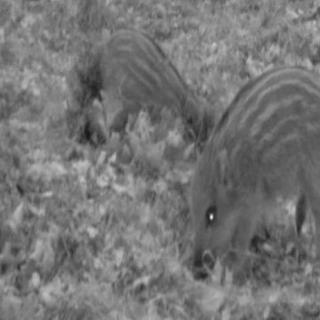Pig: (183, 62, 320, 281), (68, 15, 212, 157)
